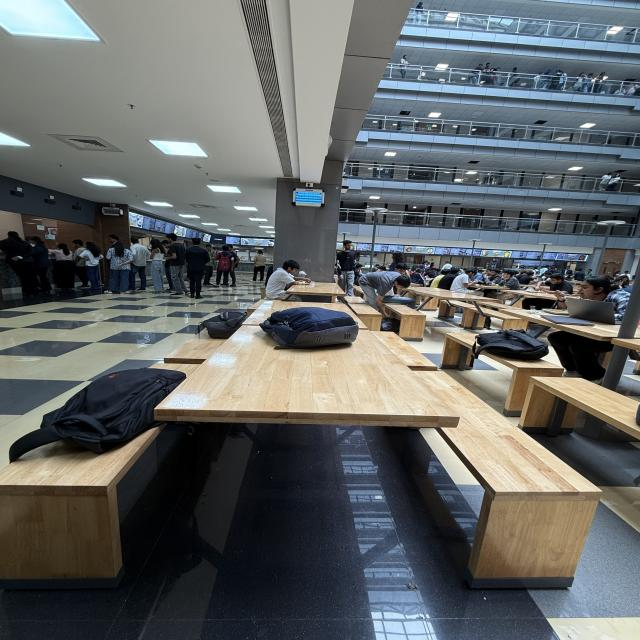bag: (8, 367, 187, 464), (258, 306, 358, 348), (472, 327, 550, 361), (196, 310, 248, 338)
bench: (0, 422, 167, 589)
person: (547, 275, 631, 382), (357, 270, 416, 330), (0, 231, 37, 298), (265, 260, 312, 300), (162, 233, 188, 296), (184, 238, 210, 298), (336, 240, 359, 296), (78, 242, 104, 290), (128, 236, 150, 292), (202, 244, 216, 286), (251, 250, 266, 282), (399, 55, 409, 78)
